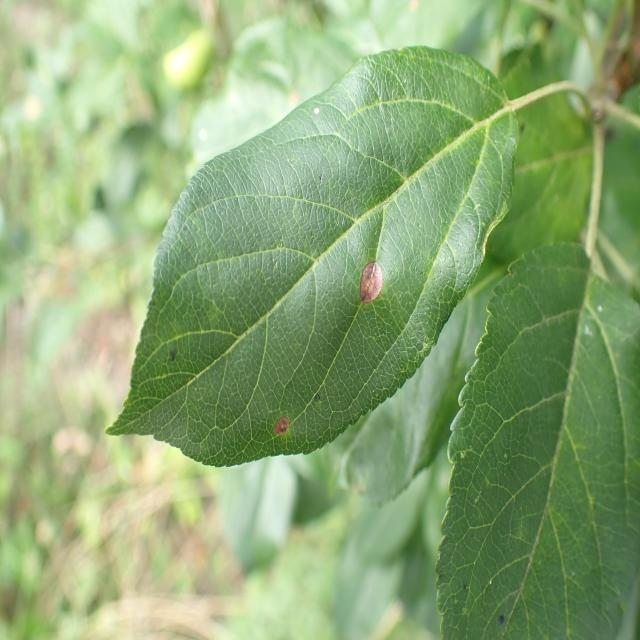frog-eye-leaf-spot: (104, 43, 520, 470)
